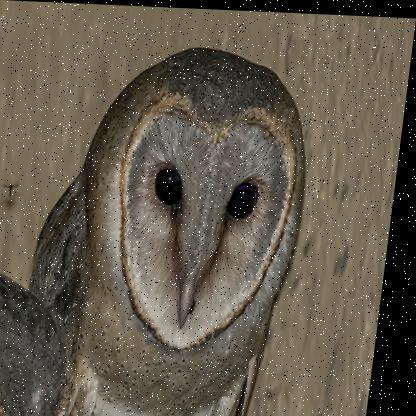Burung: (0, 41, 325, 415)
